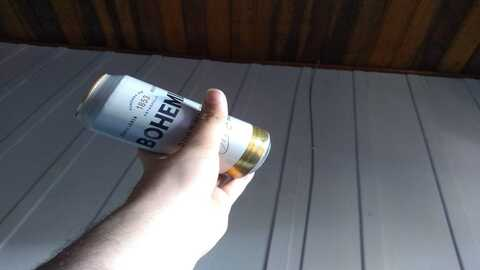bohemia: (80, 77, 269, 185)
